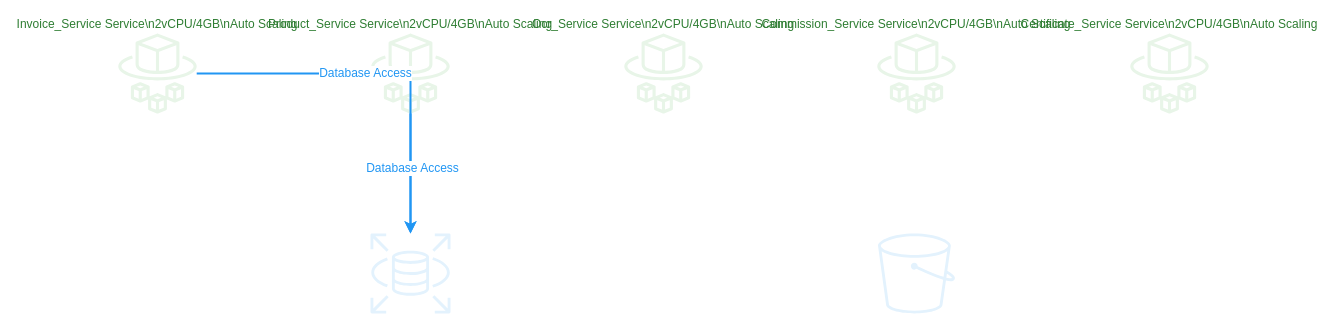
The diagram is 1335 pixels wide and 331 high, and some of its shapes have lost their labels. Here are the shapes that lost their labels. From the top down, the centre of each, then its label:
At point 410,273: "RDS PostgreSQL\ndb.r5.2xlarge\nMulti-AZ".
At point 916,273: "S3 Storage\nIntelligent Tiering\nVersioning".
